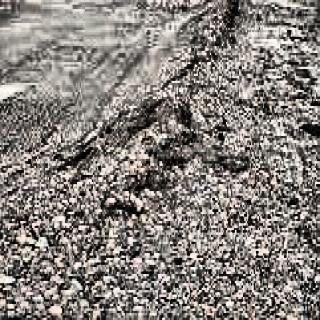alligator-crack: (0, 90, 207, 320)
